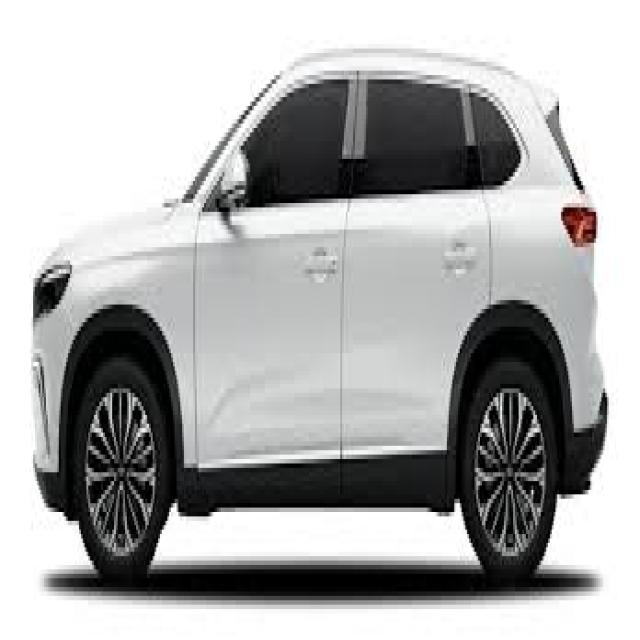togg: (33, 52, 608, 600)
